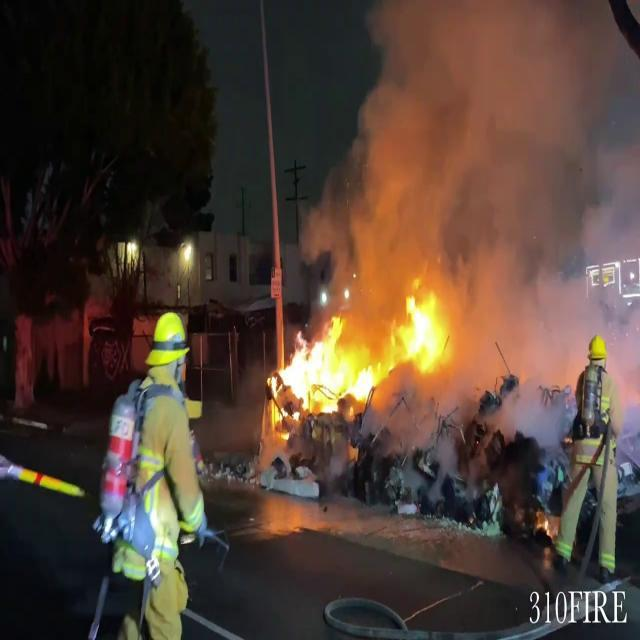Fire: (266, 298, 372, 447), (400, 279, 451, 376)
Smoke: (312, 0, 640, 346)
